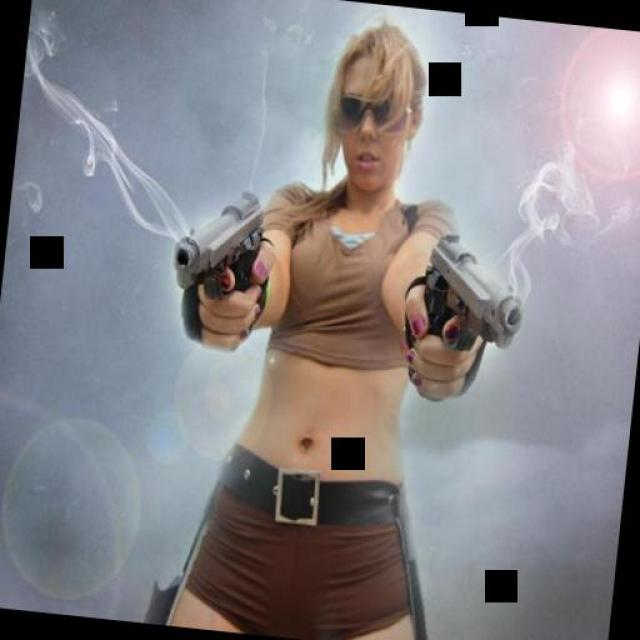gun: (410, 219, 534, 371), (156, 172, 272, 322)
